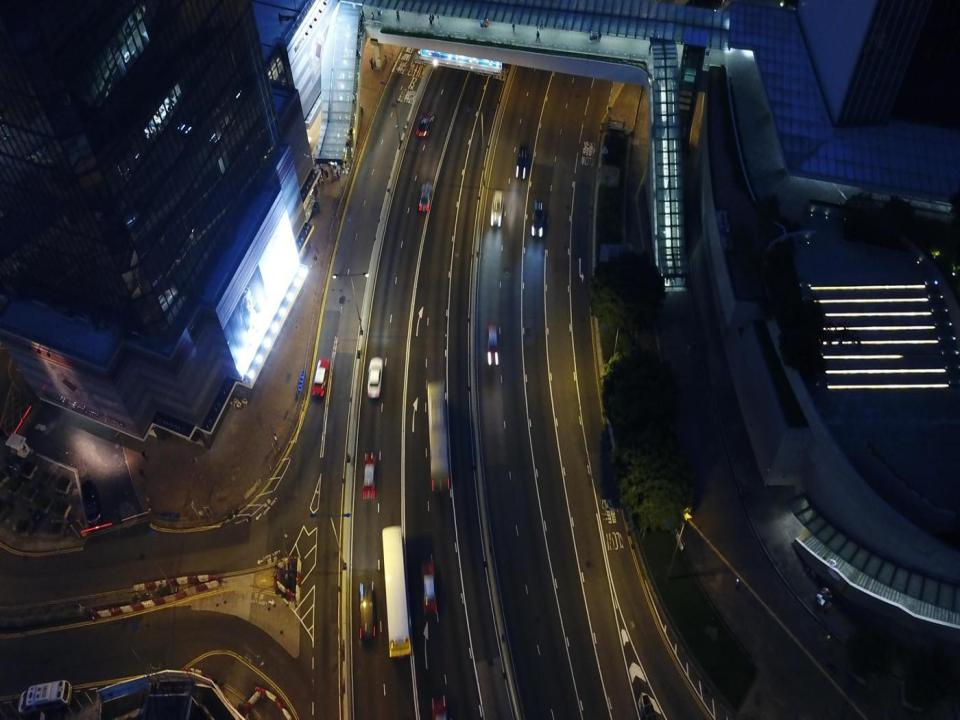bus: (382, 525, 412, 657), (426, 378, 450, 489)
car: (358, 581, 376, 640), (420, 562, 439, 615), (362, 453, 377, 500), (366, 356, 382, 397), (312, 359, 328, 396), (486, 326, 499, 366), (516, 143, 529, 179), (531, 200, 544, 236), (418, 180, 432, 212), (416, 112, 432, 137), (431, 696, 447, 719)
van: (490, 191, 504, 227)
